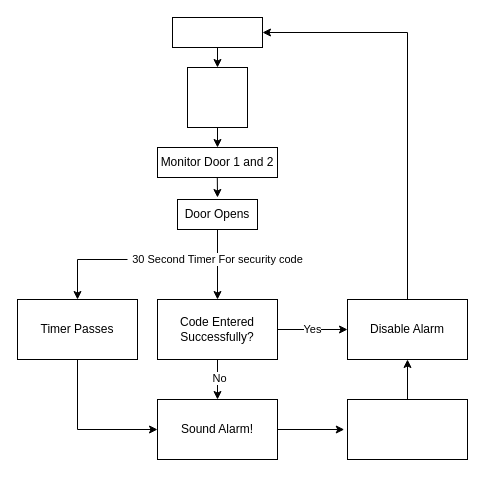
Image size: 485x477. Some labels were removed from this diagram. The centre of each missing label's shape, as x and y in pixels:
Armed: (217,97)
Input Code: (217,32)
Re-input Code: (407,429)
